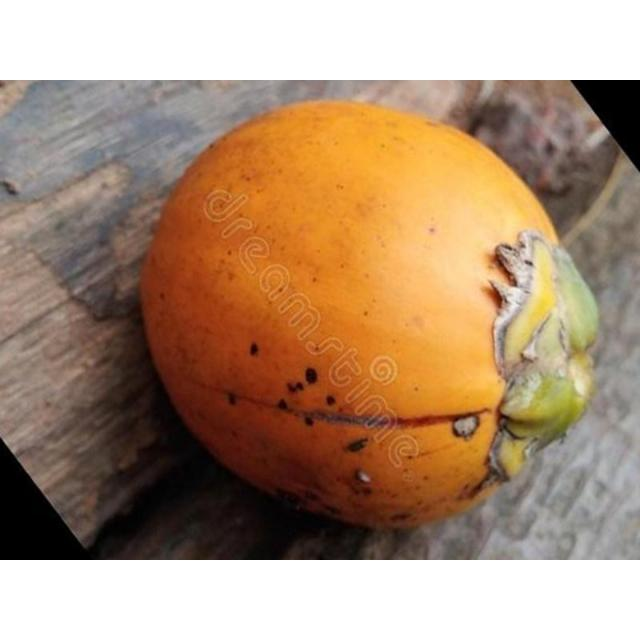good: (139, 101, 602, 534)
